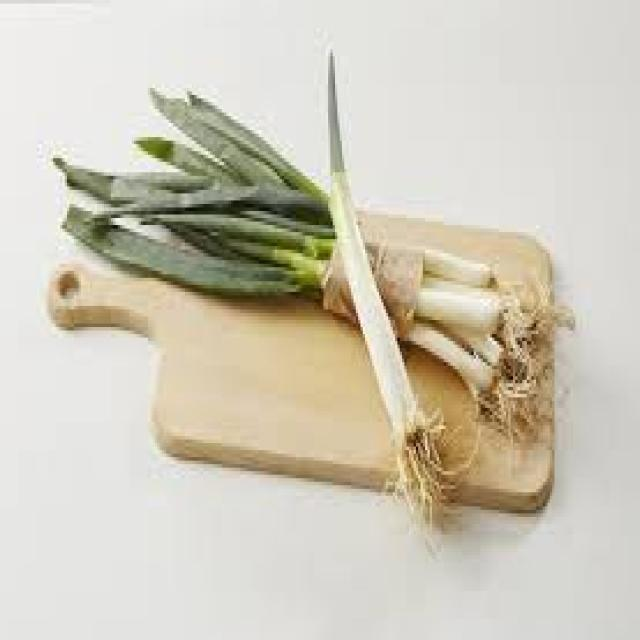green_onion: (64, 87, 561, 426)
